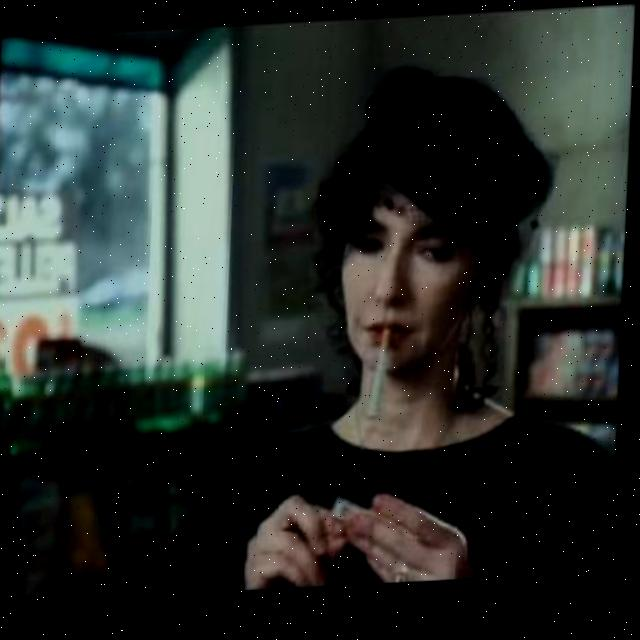cigarette: (370, 331, 393, 427)
